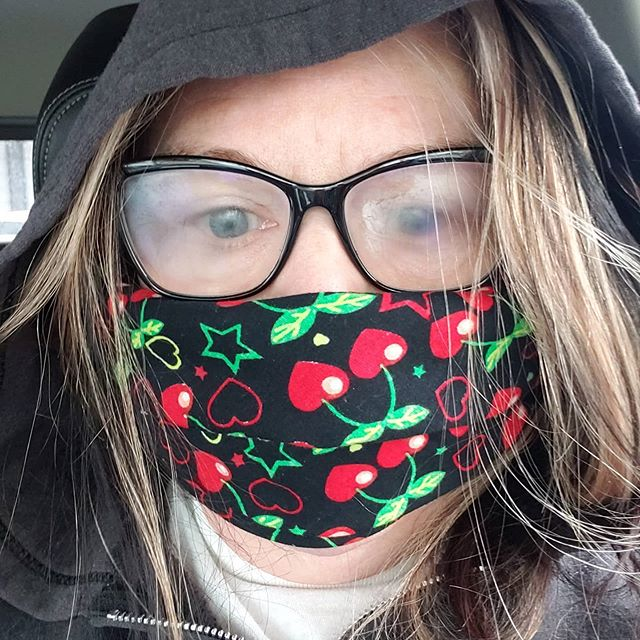homemade: (111, 281, 562, 552)
